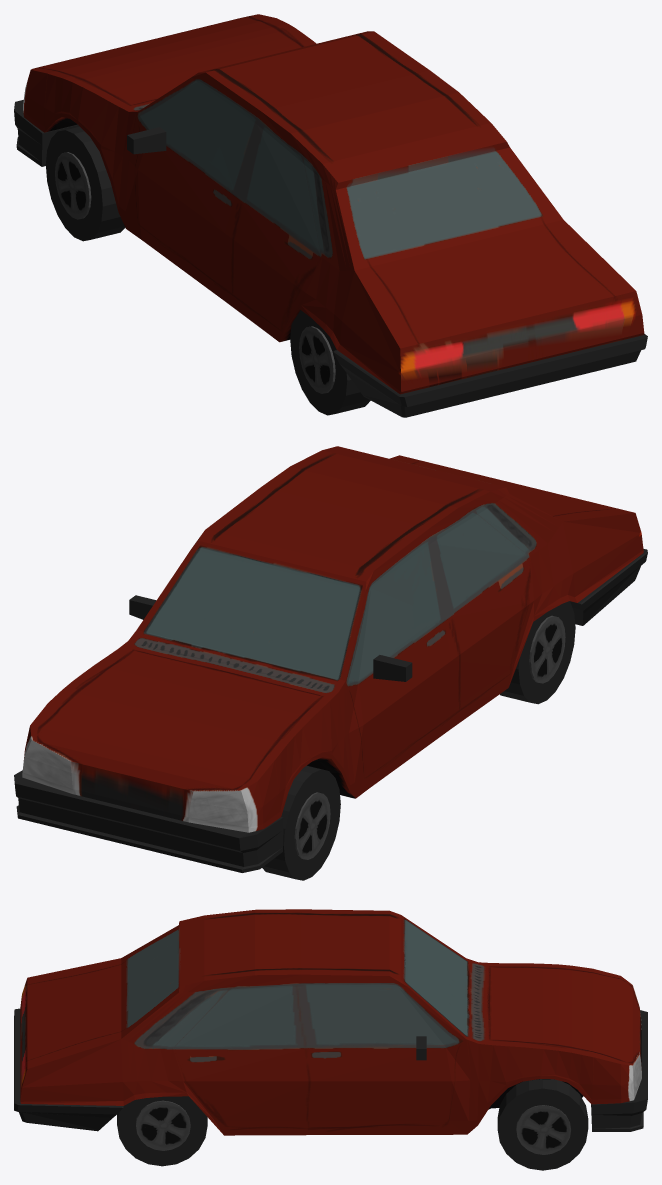
3 renders of one model, top to bottom at view 1: azimuth 30°, elevation 25°; view 2: azimuth 150°, elevation 25°; view 3: azimuth 270°, elevation 25°, orthographic. The views are drawn at different scales.
Size of the model in its own units: 58.51 by 46.19 by 146.
Materials: 3 (2 with a texture image).
